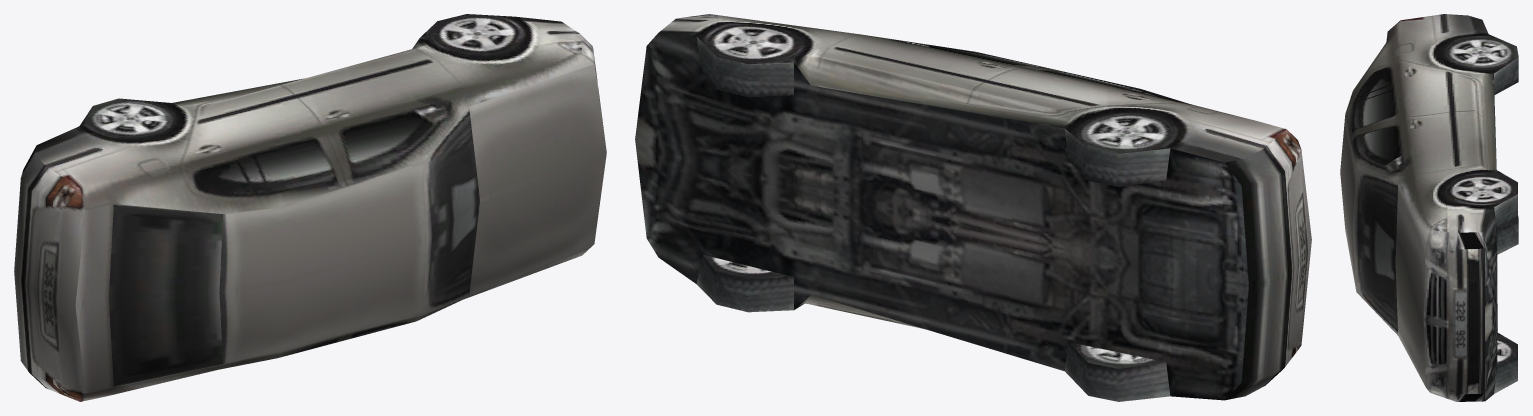
The model's file is ny_harbor_veh_civ_car_a_11_LOD0.obj.
3 views of the same model, side by side, from view 1: azimuth 30°, elevation 25°; view 2: azimuth 150°, elevation 25°; view 3: azimuth 270°, elevation 25° (orthographic). The views are drawn at different scales.
Parts seen in each view (by area): view 1: mtl_ac_prs_vehicle_sheet_a; view 2: mtl_ac_prs_vehicle_sheet_a; view 3: mtl_ac_prs_vehicle_sheet_a.
Part boxes in pixels (box(x1,y1,x2,y2)): mtl_ac_prs_vehicle_sheet_a: box(14, 14, 606, 401); mtl_ac_prs_vehicle_sheet_a: box(635, 14, 1311, 401); mtl_ac_prs_vehicle_sheet_a: box(1340, 14, 1518, 401).
Bounding box in the file's own units: 519 × 195 × 169.
